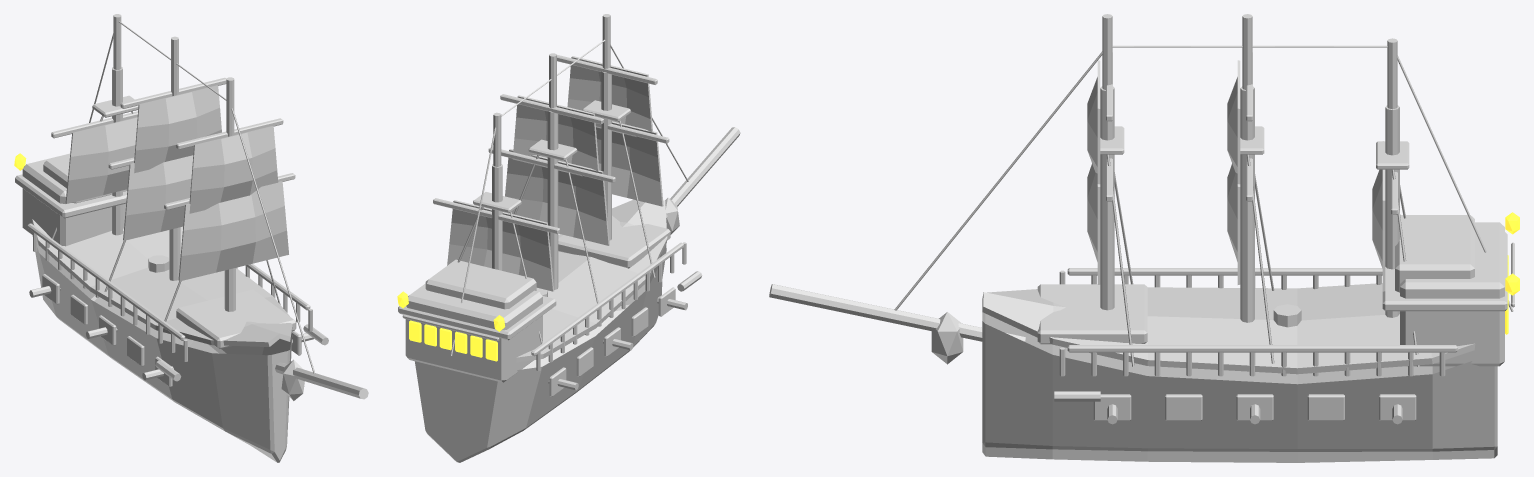
The model's file is player_tier_4_v03.fbx.
3 renders of one model, left to right at view 1: azimuth 30°, elevation 25°; view 2: azimuth 150°, elevation 25°; view 3: azimuth 270°, elevation 25°, orthographic. The views are drawn at different scales.
Parts seen in each view (by area): view 1: Tier_4_Lofted_Hull, Tier_4_Lofted_Deck, Sail_1_1, Sail_1_2, Sail_2_2, Sail_3_1, Sail_2_1, Stern_GreatCabin, Forecastle_Deck, Stern_Quarterdeck, Tier_4_Starboard_TopRail, Bowsprit_Main (+16 smaller); view 2: Tier_4_Lofted_Hull, Tier_4_Lofted_Deck, Stern_GreatCabin, Sail_2_1, Sail_3_1, Sail_1_1, Upper_Stern_Castle, Sail_2_2, Sail_1_2, Forecastle_Deck, Mast_2_Lower, Stern_Quarterdeck (+21 smaller); view 3: Tier_4_Lofted_Hull, Tier_4_Lofted_Deck, Stern_GreatCabin, Forecastle_Deck, Upper_Stern_Castle, Tier_4_Port_TopRail, Bowsprit_Main, Mast_2_Lower, Mast_1_Lower, Stern_Quarterdeck, Tier_4_Starboard_TopRail, Mast_3_Lower (+16 smaller).
Part boxes in pixels (box(x1,y1,x2,y2)): Tier_4_Lofted_Hull: box(32, 235, 292, 462); Tier_4_Lofted_Deck: box(32, 219, 292, 346); Sail_1_1: box(178, 181, 288, 281); Sail_1_2: box(189, 126, 278, 213); Sail_2_2: box(134, 85, 221, 173); Sail_3_1: box(65, 117, 137, 203); Sail_2_1: box(123, 155, 193, 240); Stern_GreatCabin: box(22, 153, 125, 246); Forecastle_Deck: box(176, 290, 296, 348); Stern_Quarterdeck: box(15, 174, 127, 218); Tier_4_Starboard_TopRail: box(27, 223, 185, 340); Bowsprit_Main: box(275, 362, 368, 399); Tier_4_Lofted_Hull: box(415, 244, 666, 462); Tier_4_Lofted_Deck: box(516, 199, 667, 362); Stern_GreatCabin: box(405, 283, 542, 382); Sail_2_1: box(505, 149, 609, 245); Sail_3_1: box(447, 200, 554, 291); Sail_1_1: box(596, 121, 663, 206); Upper_Stern_Castle: box(425, 259, 536, 309); Sail_2_2: box(513, 95, 599, 176); Sail_1_2: box(567, 56, 652, 136); Forecastle_Deck: box(558, 215, 670, 268); Mast_2_Lower: box(547, 111, 558, 289); Stern_Quarterdeck: box(398, 296, 556, 340); Tier_4_Lofted_Hull: box(982, 312, 1497, 462); Tier_4_Lofted_Deck: box(982, 283, 1475, 374); Stern_GreatCabin: box(1400, 222, 1504, 366); Forecastle_Deck: box(1037, 284, 1147, 344); Upper_Stern_Castle: box(1395, 215, 1474, 292); Tier_4_Port_TopRail: box(1067, 345, 1457, 352); Bowsprit_Main: box(769, 284, 1025, 341); Mast_2_Lower: box(1240, 86, 1254, 322); Mast_1_Lower: box(1100, 86, 1114, 310); Stern_Quarterdeck: box(1382, 232, 1507, 311); Tier_4_Starboard_TopRail: box(1067, 268, 1382, 275); Mast_3_Lower: box(1385, 105, 1399, 317).
Bounding box in the file's own units: 1.58 × 3.18 × 4.85.
